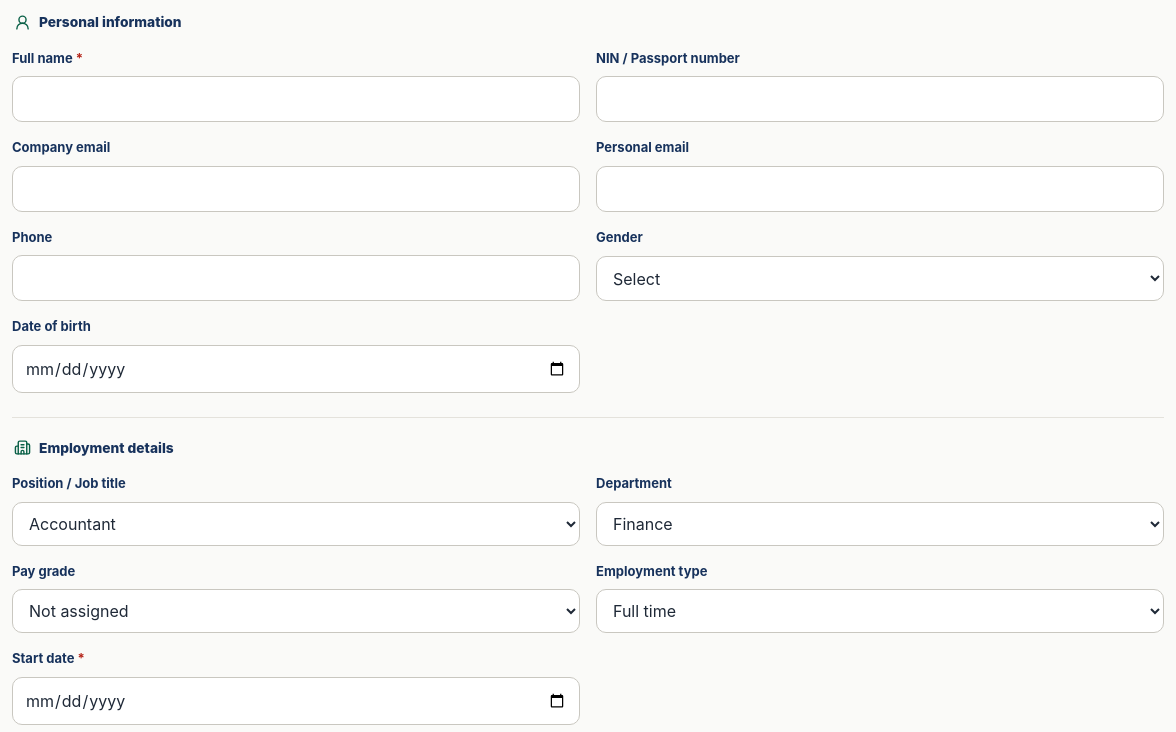
clears a job title that is incompatible with a changed department
Expected: the dropdown labelled "Position / Job title" shows "Accountant", [12,502,580,546]
Select "Operations" in the dropdown labelled "Department" at [880, 524], box [596,502,1164,546]
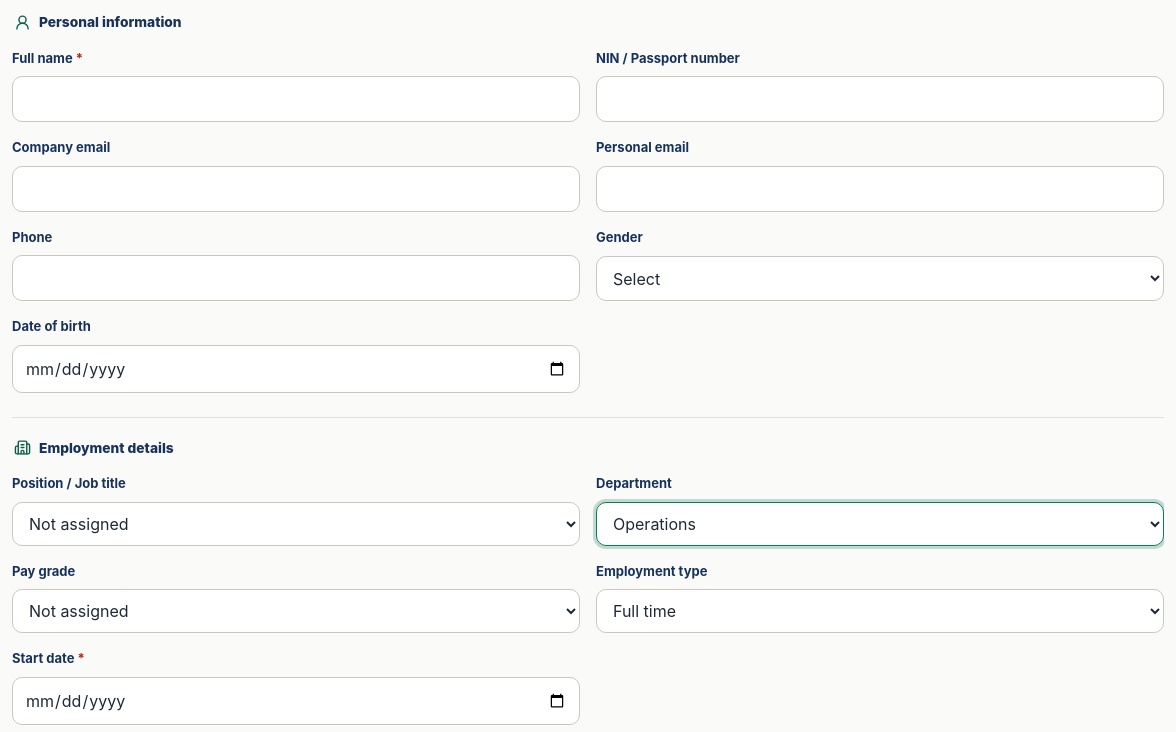
Expected: the dropdown labelled "Position / Job title" shows "Not assigned", [12,502,580,546]
